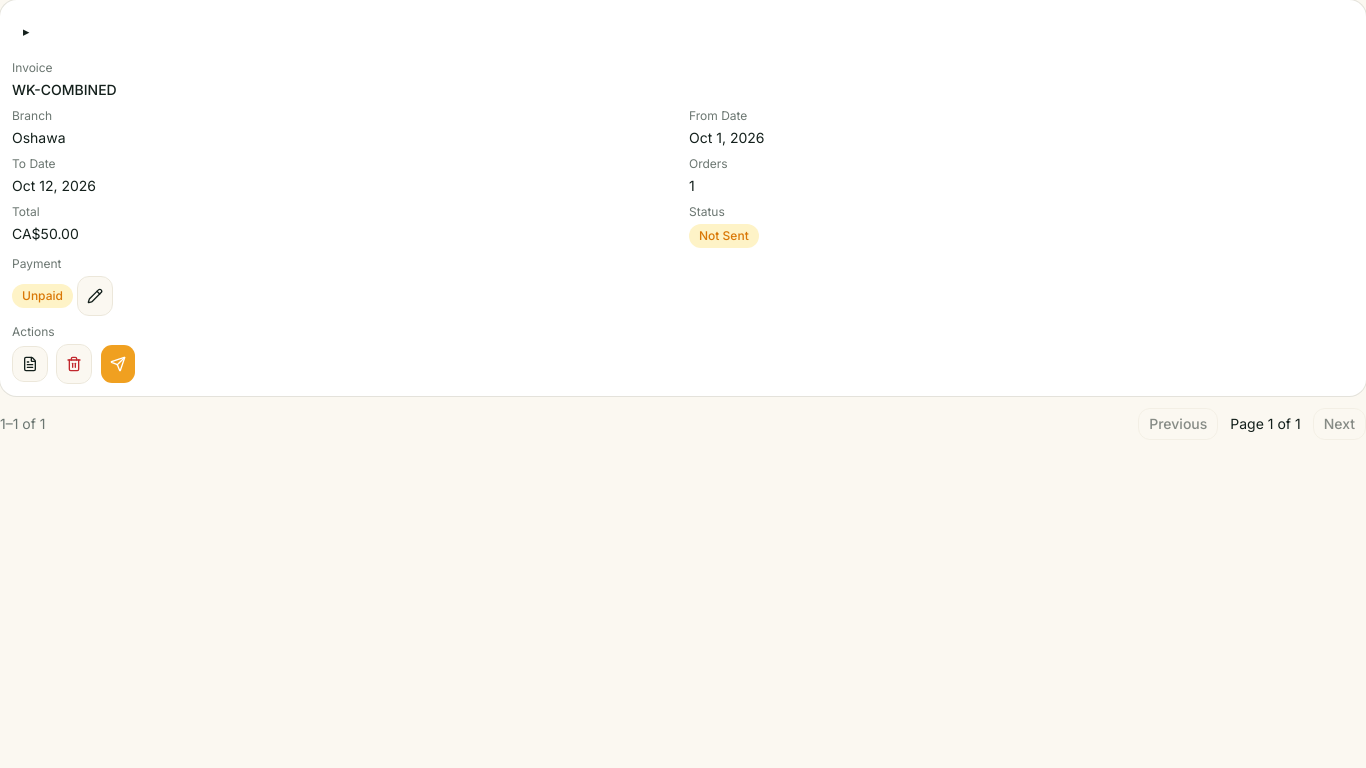
keeps payment and invoice actions available in compact layout at 390 px
The width and height of the screenshot is (1366, 768).
Expected: the button named "Send WK-COMBINED" is enabled, [100,344,136,384]
Expected: the link named "View PDF" is shown, [12,346,48,382]
Click the button named "Update payment for WK-COMBINED": x=95, y=296 [77,276,113,316]
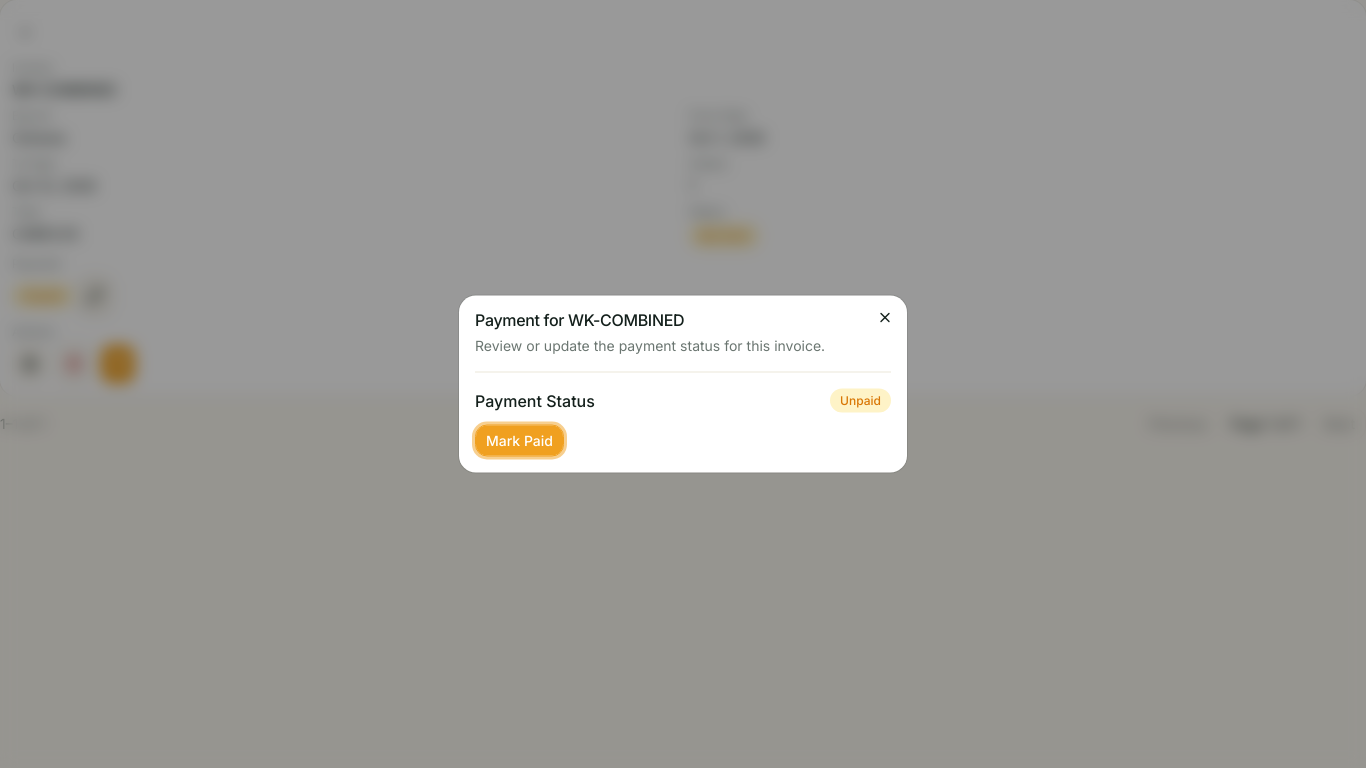
Now the dialog "Payment for WK-COMBINED" is shown, box [459,296,907,472]
